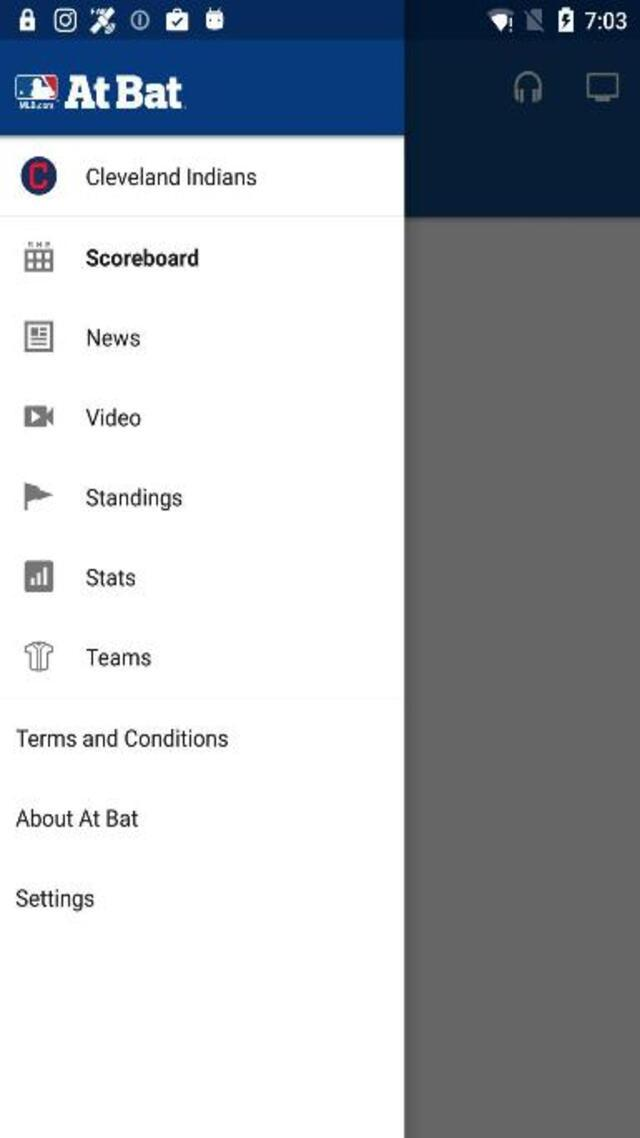Icon: (19, 156, 56, 196), (23, 560, 53, 592), (23, 320, 53, 352), (23, 641, 53, 671), (23, 481, 53, 511), (23, 241, 53, 271), (23, 406, 53, 427)
Image: (15, 75, 188, 110)
Text: (15, 728, 228, 748), (86, 166, 256, 186), (15, 808, 138, 828), (86, 487, 182, 512), (86, 248, 200, 268), (16, 888, 94, 911), (86, 649, 150, 667), (86, 408, 140, 428), (86, 568, 136, 588), (86, 329, 140, 347)
